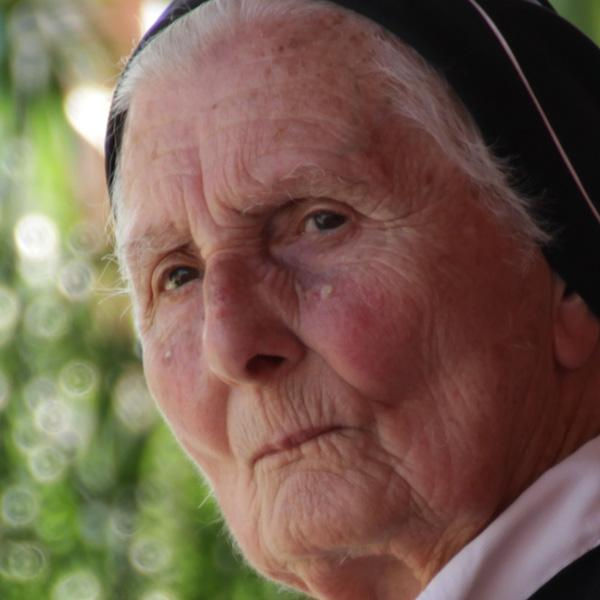Eyes: (285, 190, 361, 254), (147, 242, 212, 311)
